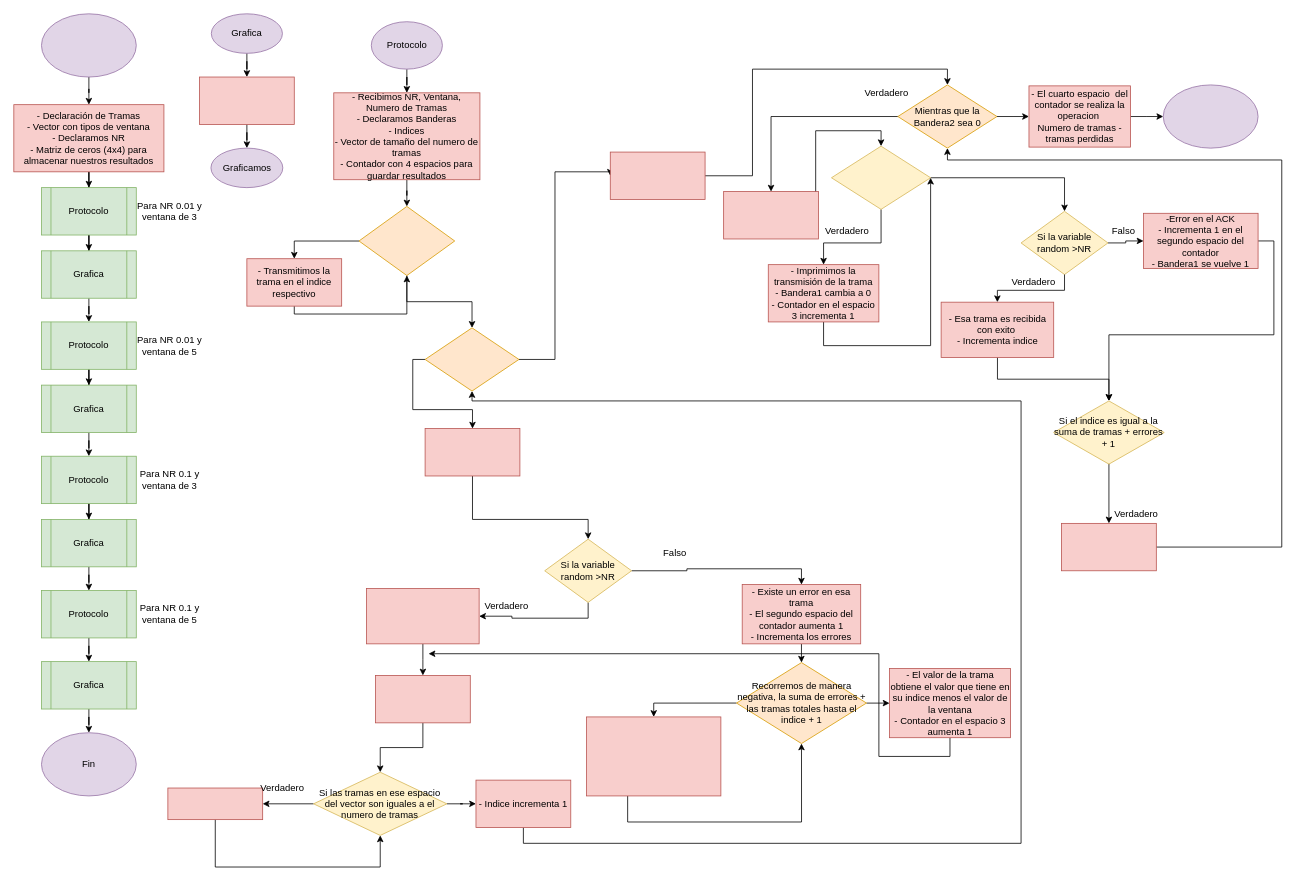
This 1302x887 diagram has some shape labels left out. The centre of each missing label's shape, as x and y in pixels:
- Bandera2 se vuelve 1: point 1108,547
- Declaramos indice para recorrer las ultimas tramas: point 657,175
- Declaramos variable aleatoria: point 770,215
- Esa trama es recibida con exito: point 422,616
- Tramas obtendra en ese espacio su valor que tiene en el espacio anterior: point 653,756
- Transmitimos tramas: point 422,699
Bandera vale 1: point 215,803
De 1 a hasta la longitud de ventana: point 406,241
Declaramos variable random: point 472,452
Inicio: point 88,45
Mientras que nuestra primer bandera sea 0: point 471,359
Recibimos el vector: point 246,100
Regresamos arreglo de sumas: point 1210,116
Si Bandera1 = 1: point 881,177
